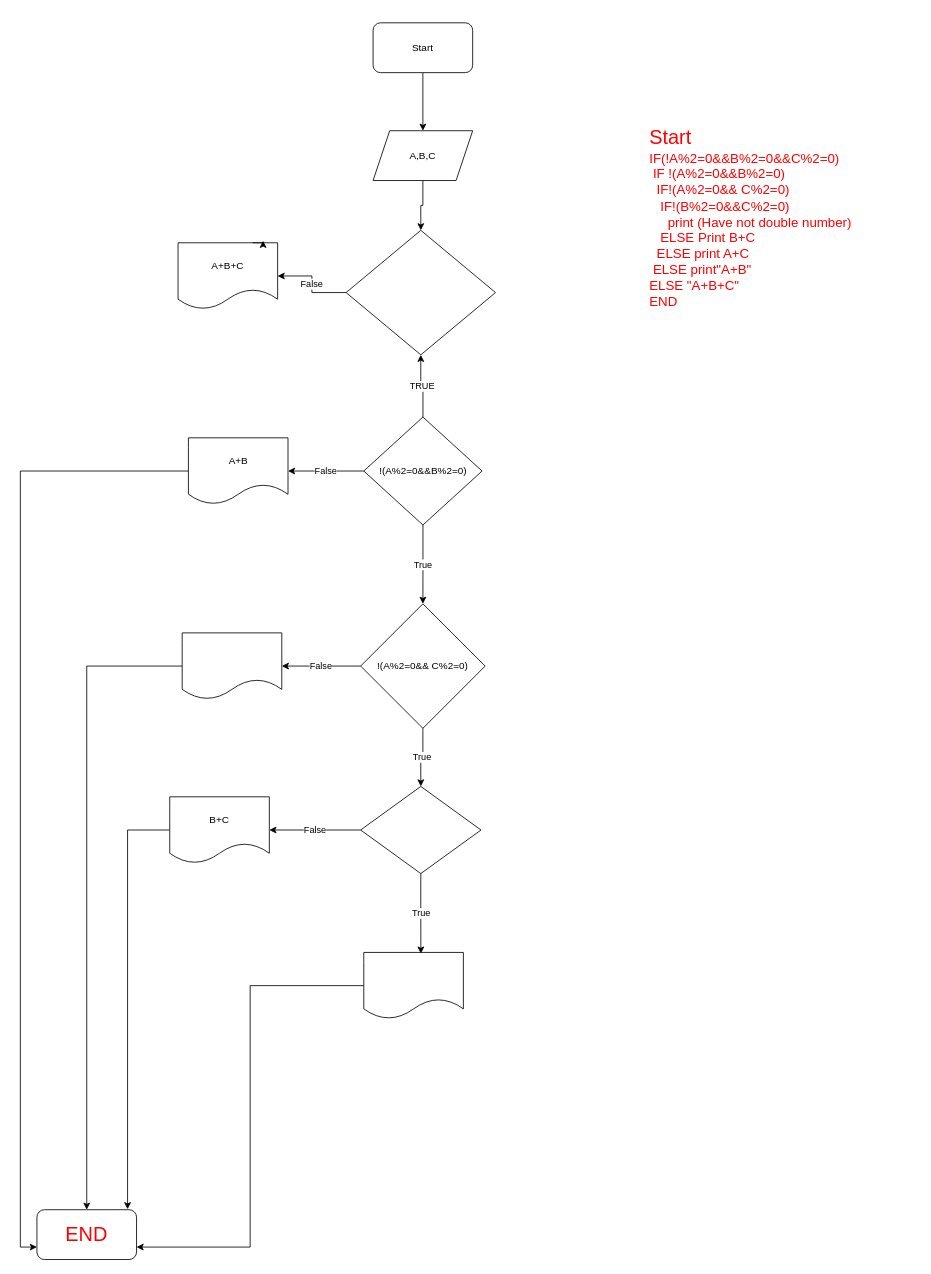
This 931x1274 diagram has some shape labels left out. The centre of each missing label's shape, as x and y in pixels:
!(A%2=0&&B%2=0&&C%2=0): the point at 420,292
!(B%2=0&&C%2=0): the point at 420,830
A+C: the point at 231,665
Have not double number: the point at 413,985
